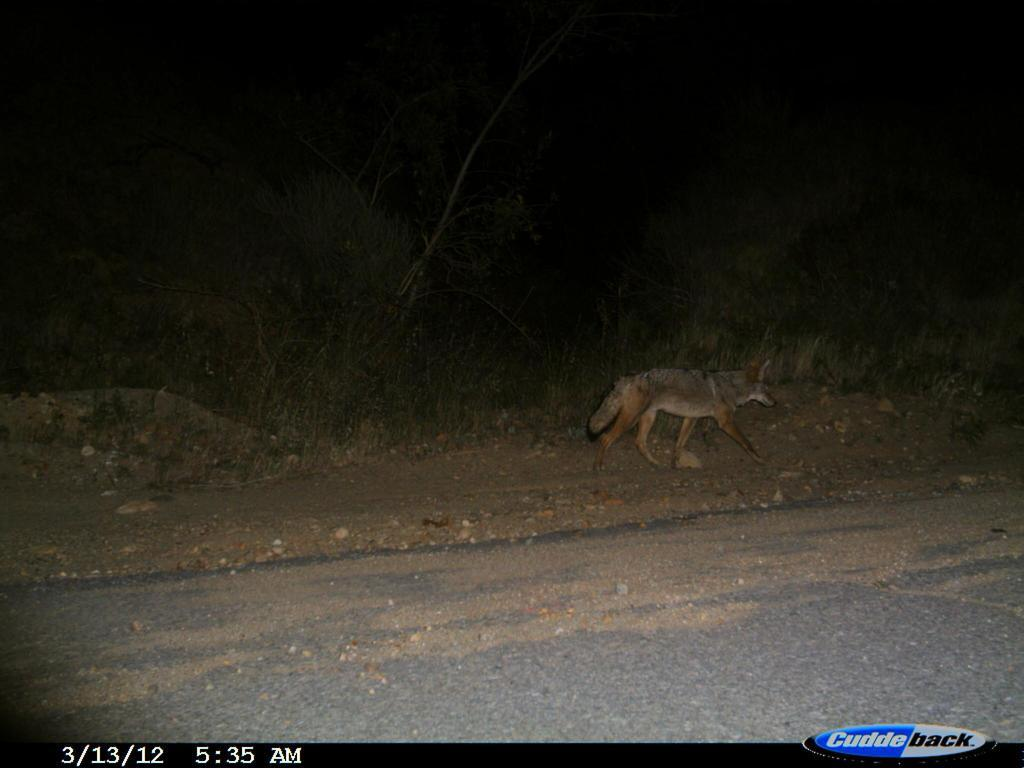coyote: (589, 360, 789, 475)
